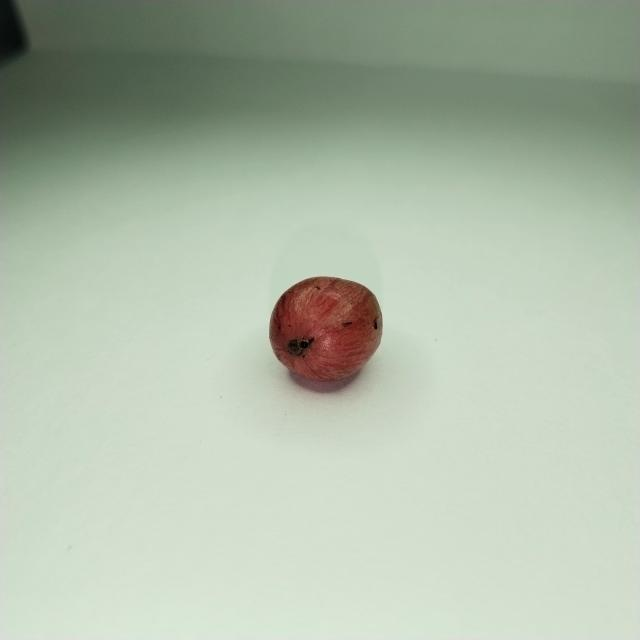Infectado: (269, 276, 383, 381)
